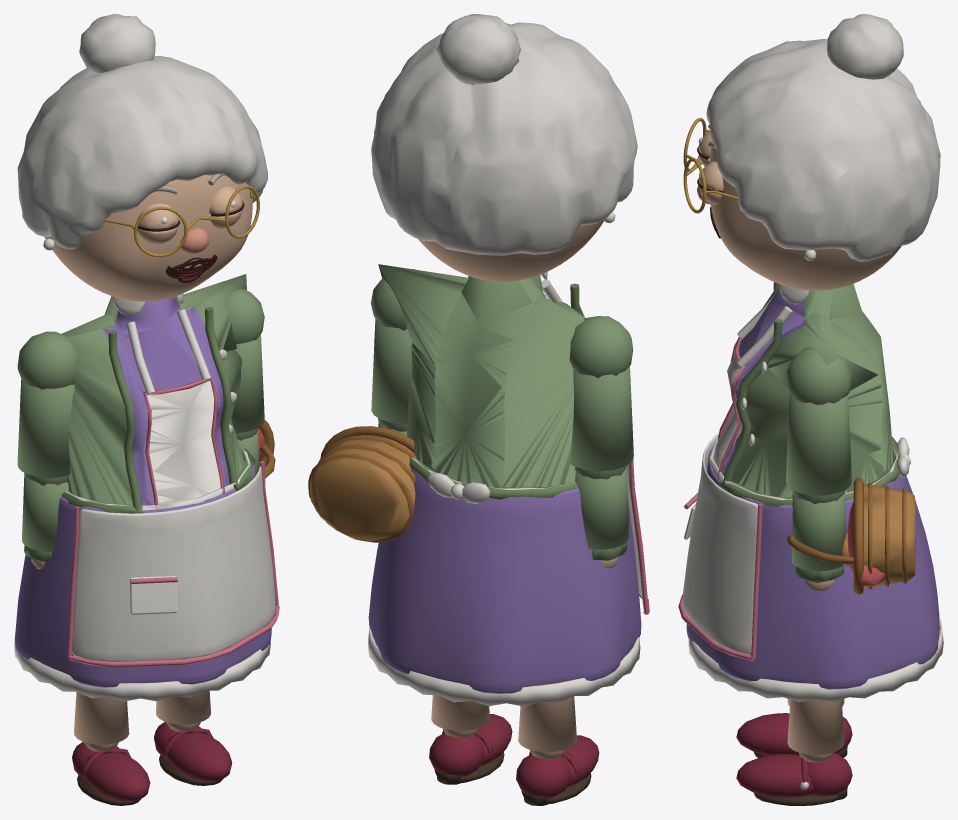
Rendered from villager.glb.
The picture shows the model from 3 angles, left to right: view 1: azimuth 30°, elevation 25°; view 2: azimuth 150°, elevation 25°; view 3: azimuth 270°, elevation 25°; orthographic projection. The views are drawn at different scales.
Visible parts, largest first — view 1: farmer_p; view 2: farmer_p; view 3: farmer_p.
Boxes of the visible parts, x1,y1,x2,y2 form: farmer_p: (14, 14, 279, 805); farmer_p: (308, 14, 649, 805); farmer_p: (678, 14, 943, 805).
Size of the model in its own units: 0.5657 by 1.46 by 0.4657.
